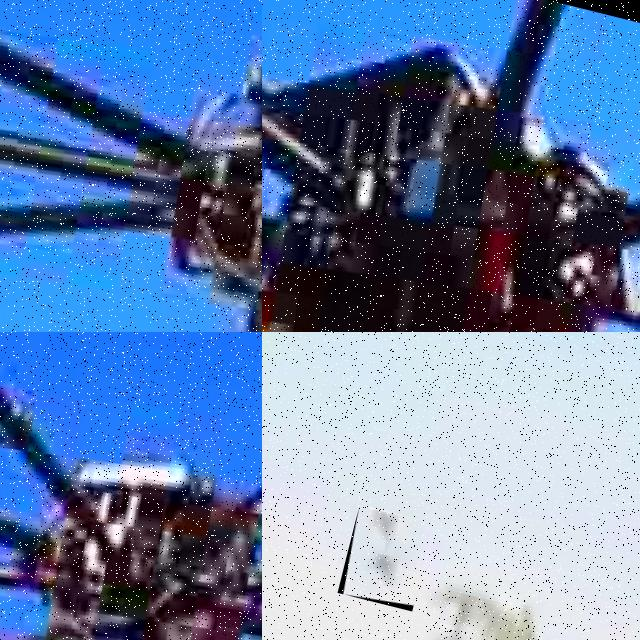0: (262, 0, 640, 332), (0, 0, 262, 332), (0, 332, 262, 640)
drone: (336, 505, 434, 611)
